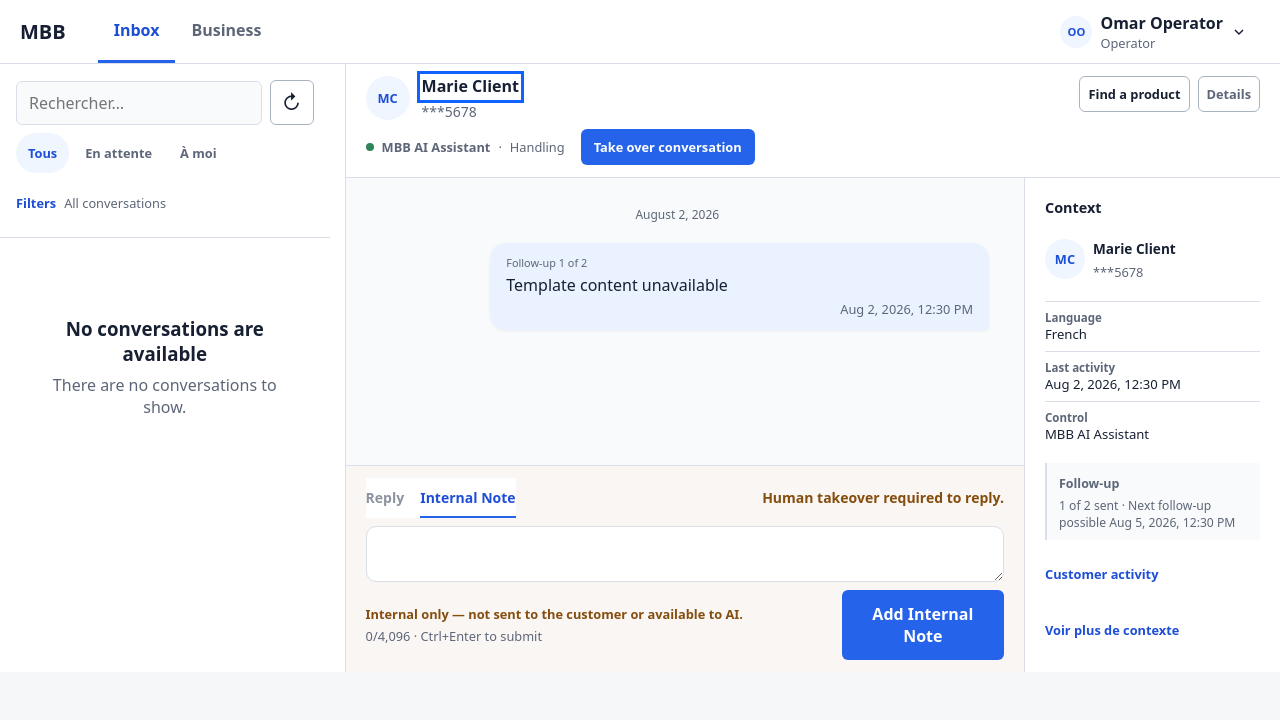
Test case: read-only conversation workspace › shows a sent follow-up without inventing template text (french)
The image size is (1280, 720).
expect the text "Follow-up 1 of 2" is shown: met, box [506,255,587,270]
expect the text "Template content unavailable" is shown: met, box [506,274,728,296]
Click the button "Details" at (1229, 94), box [1198,76,1260,112]
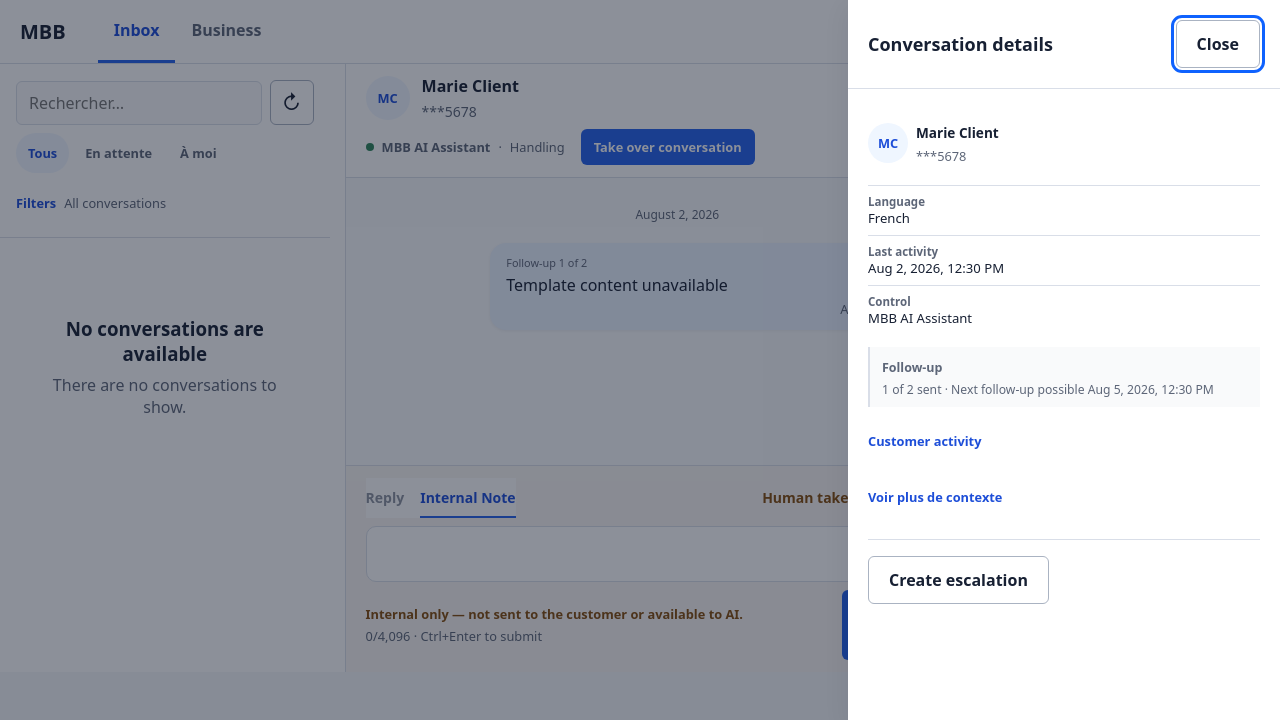
expect the dialog "Conversation details" shows "1 of 2 sent": met, box [848,0,1279,719]
